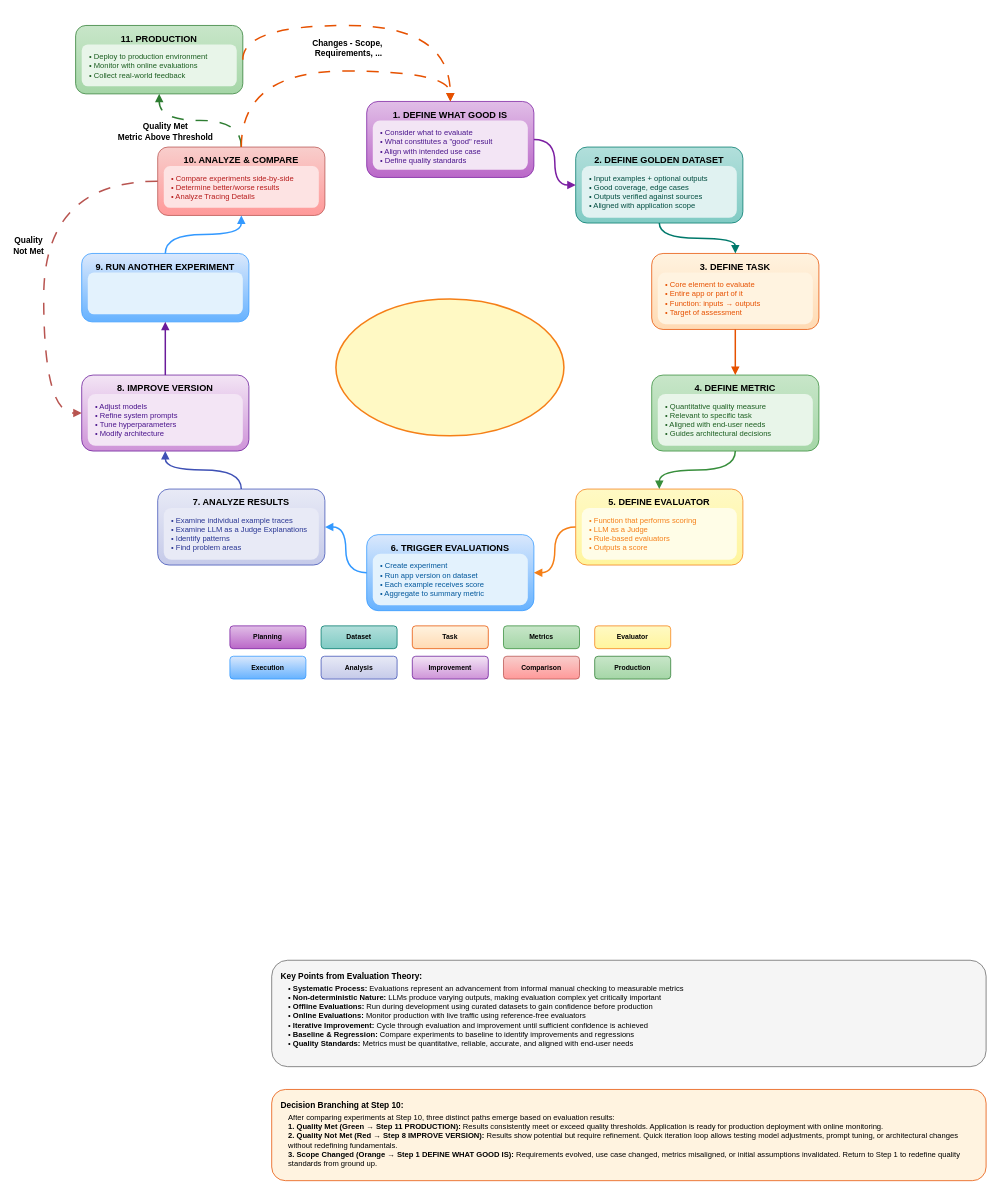
This 999x1194 diagram has some shape labels left out. The shapes that lost their labels are listed below. From the top down, each one's centre as x and y in pixels, then its label:
the point at 164,293: • Test improved version • Use same dataset • Same evaluation setup
the point at 449,367: EVALUATION CYCLE
